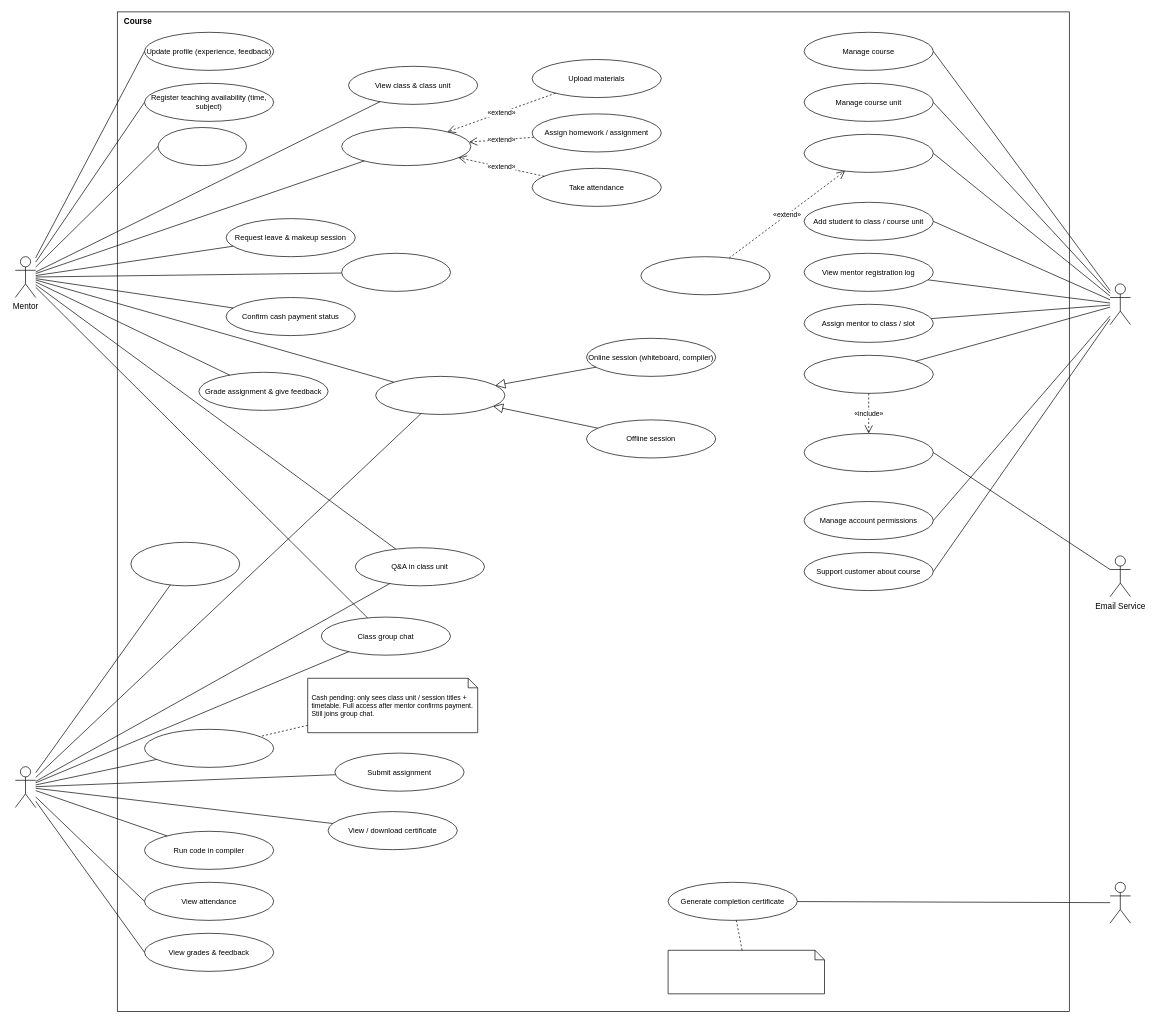
Image size: 1161x1023. Some labels were removed from this diagram. The centre of each missing label's shape, as x and y in pixels:
"Approve leave / makeup request" goes at point (868, 374).
"Import class from course unit" goes at point (705, 275).
"Join class session" goes at point (440, 395).
"Manage class" goes at point (868, 153).
"Manage class session" goes at point (406, 146).
"Manager/Admin" goes at point (1119, 304).
"Notify students via email (1 day before)" goes at point (868, 452).
"Precondition: Attendance rate ≥ X% Average assignment score ≥ Y" goes at point (746, 972).
"Student" goes at point (25, 787).
"System (Timer)" goes at point (1119, 902).
"Take slot for class" goes at point (202, 146).
"View class unit & session" goes at point (209, 748).
"View personal timetable" goes at point (185, 564).
"View teaching schedule" goes at point (396, 272).
